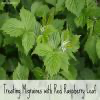Raspberry leaf: (43, 51, 70, 77), (1, 16, 25, 39), (19, 6, 36, 33), (30, 42, 55, 58), (22, 32, 35, 56), (63, 22, 69, 43), (68, 34, 82, 43), (65, 44, 79, 51)
